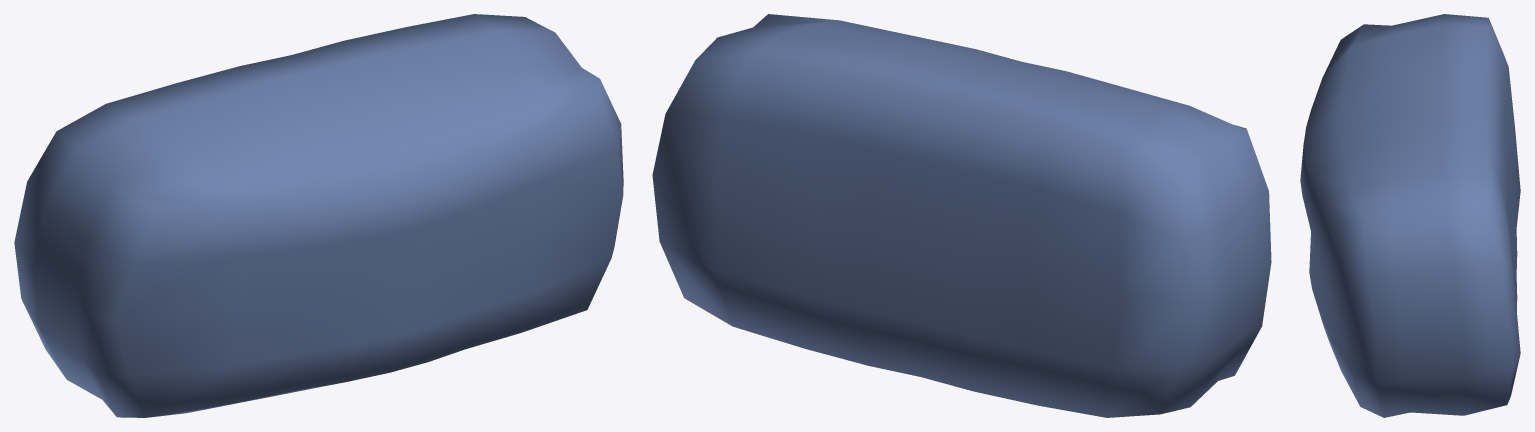
File: Hips.dae
3 views of the same model, side by side, from view 1: azimuth 30°, elevation 25°; view 2: azimuth 150°, elevation 25°; view 3: azimuth 270°, elevation 25° (orthographic). The views are drawn at different scales.
Visible parts, largest first — view 1: Hip_Mesh; view 2: Hip_Mesh; view 3: Hip_Mesh.
Boxes of the visible parts, bbox=[...] form: Hip_Mesh: bbox=[14, 14, 623, 417]; Hip_Mesh: bbox=[652, 14, 1271, 417]; Hip_Mesh: bbox=[1300, 14, 1520, 417].
Size of the model in its own units: 0.2985 by 0.1224 by 0.1475.
